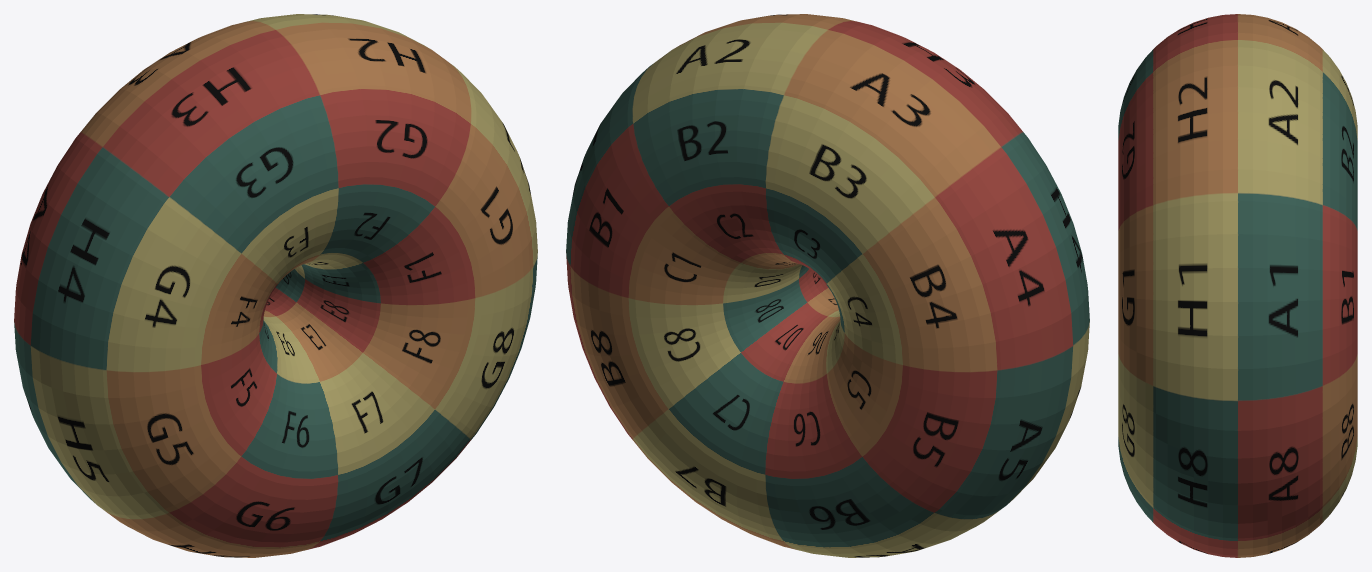
Rendered from texture_torus_R2_r26.glb.
3 renders of one model, left to right at view 1: azimuth 30°, elevation 25°; view 2: azimuth 150°, elevation 25°; view 3: azimuth 270°, elevation 25°, orthographic. The views are drawn at different scales.
Parts seen in each view (by area): view 1: world; view 2: world; view 3: world.
Part boxes in pixels (x1,y1,x2,y2): world: (14,14,537,557); world: (566,14,1089,557); world: (1118,14,1357,557).
Bounding box in the file's own units: 20.27 × 20.23 × 8.92.
Materials: 1 (1 with a texture image).
